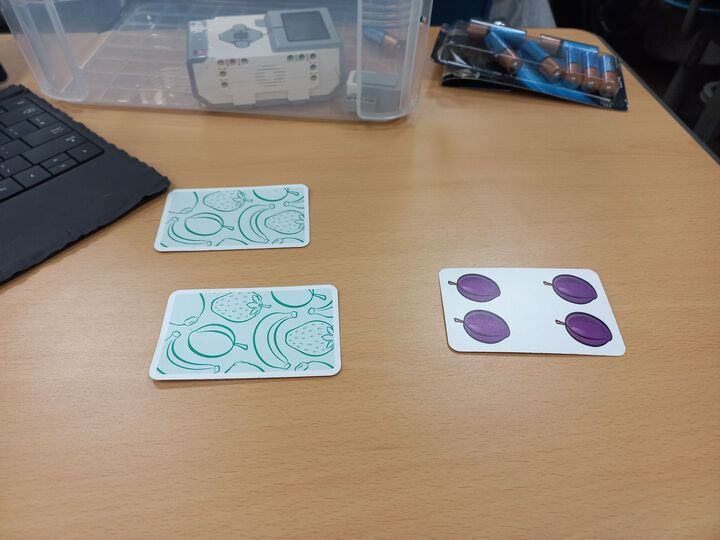plum4: (438, 266, 631, 361)
